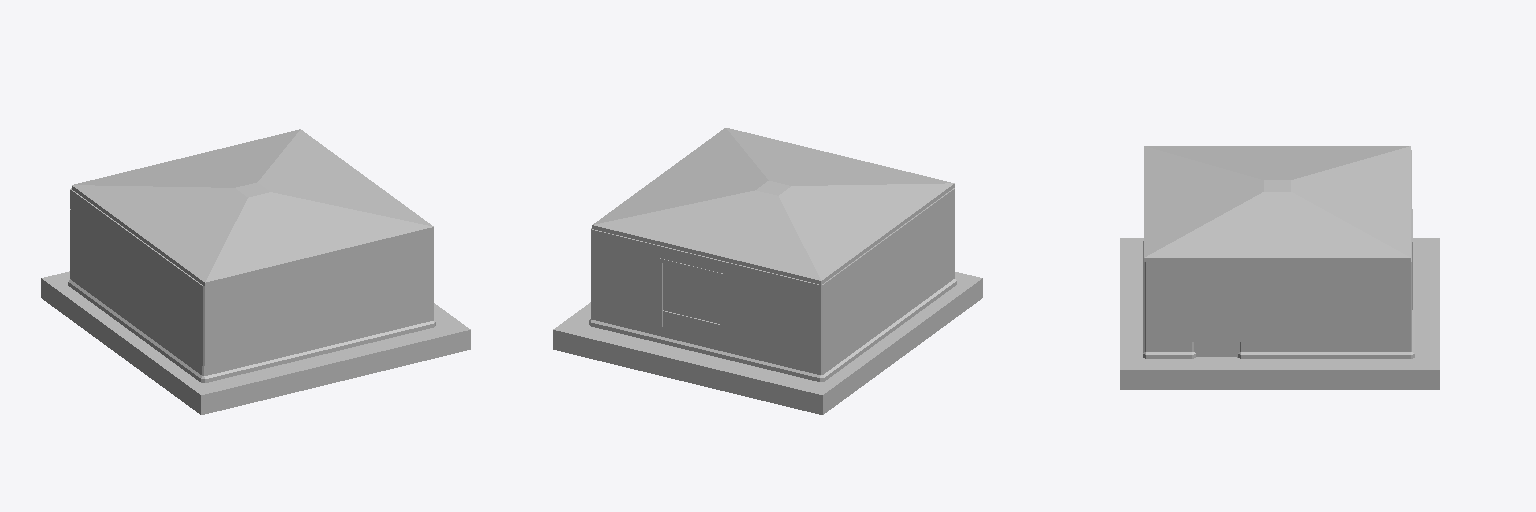
The model's file is room.obj.
3 renders of one model, left to right at view 1: azimuth 30°, elevation 25°; view 2: azimuth 150°, elevation 25°; view 3: azimuth 270°, elevation 25°, orthographic.
Parts seen in each view (by area): view 1: mergedBlocks; view 2: mergedBlocks; view 3: mergedBlocks.
Part boxes in pixels (bbox=[...]): mergedBlocks: bbox=[41, 129, 470, 414]; mergedBlocks: bbox=[553, 128, 982, 414]; mergedBlocks: bbox=[1120, 146, 1439, 389].
Size of the model in its own units: 14.11 by 6.8 by 14.52.